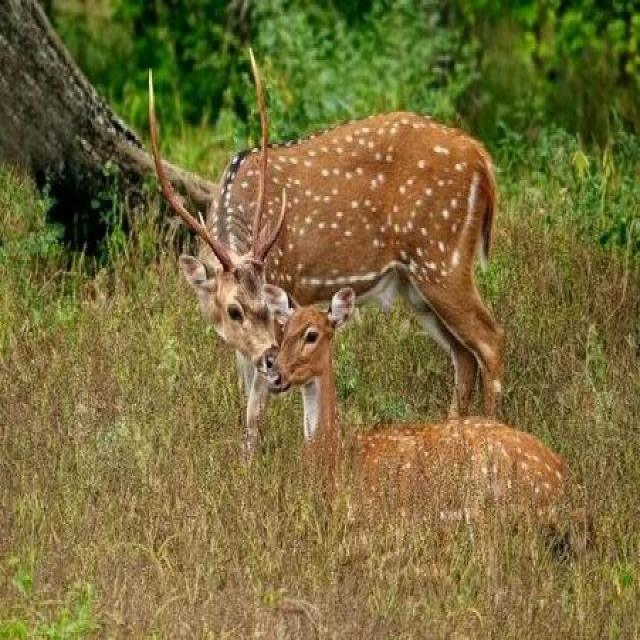deer: (136, 79, 540, 382), (266, 306, 584, 563)
